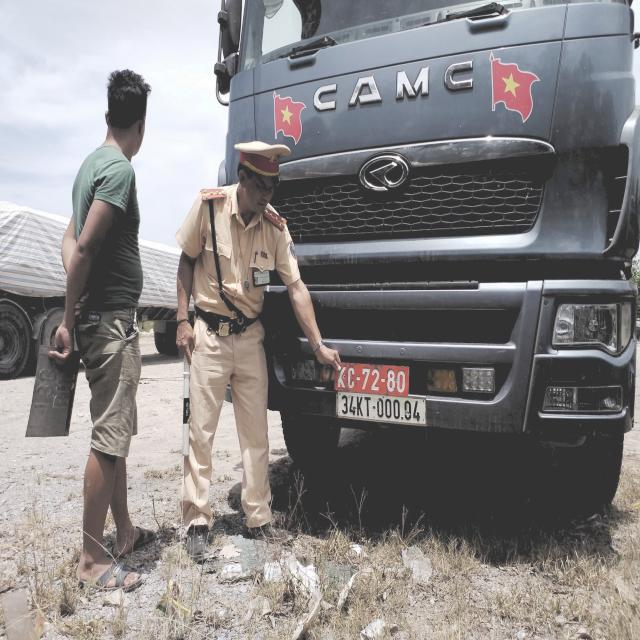license_plate: (339, 392, 427, 427), (336, 362, 410, 394)
